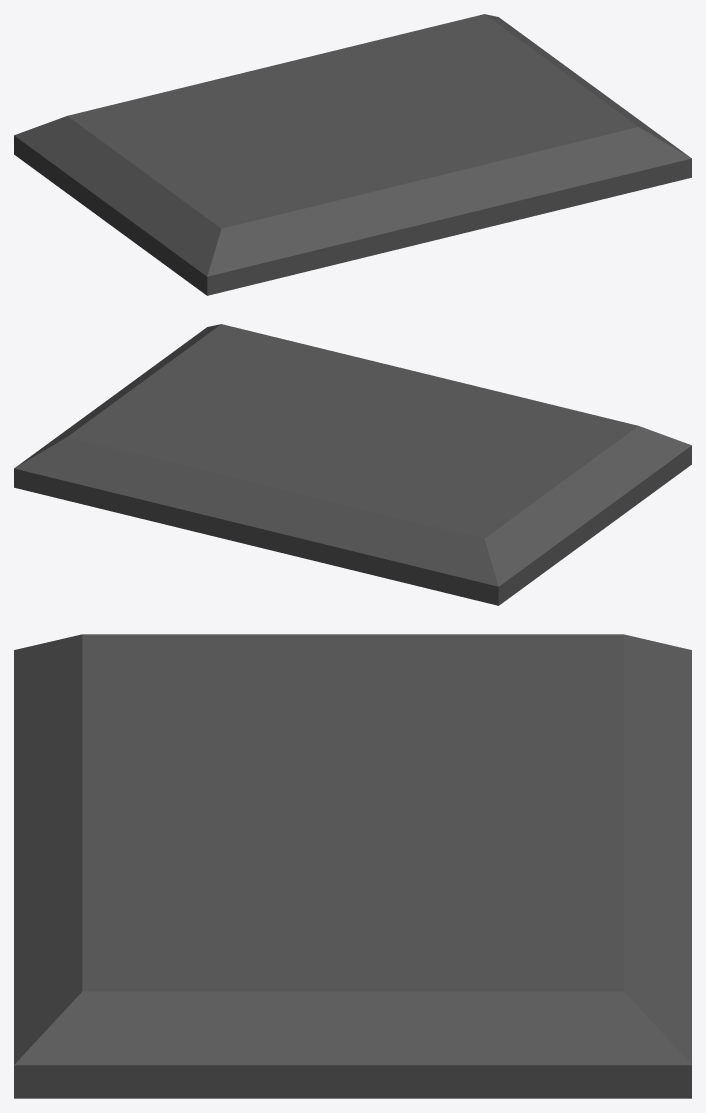
File: Itr_Table4_Top_04.FBX
3 views of the same model, one above another, from view 1: azimuth 30°, elevation 25°; view 2: azimuth 150°, elevation 25°; view 3: azimuth 270°, elevation 25° (orthographic). The views are drawn at different scales.
Parts seen in each view (by area): view 1: Itr_Table4_Top_04; view 2: Itr_Table4_Top_04; view 3: Itr_Table4_Top_04.
Boxes of the visible parts, left/top/right/bottom form: Itr_Table4_Top_04: left=14, top=14, right=691, bottom=295; Itr_Table4_Top_04: left=14, top=324, right=691, bottom=605; Itr_Table4_Top_04: left=14, top=634, right=691, bottom=1098.
Bounding box in the file's own units: 58.16 × 5.12 × 40.15.
